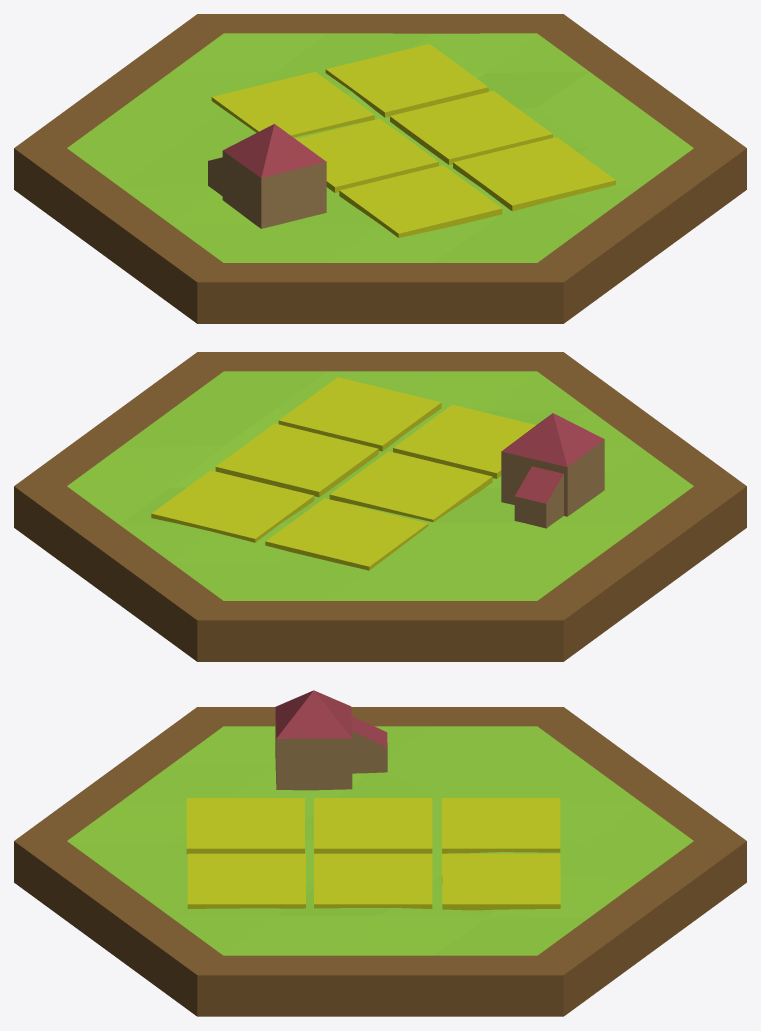
The model's file is Plains.dae.
3 renders of one model, top to bottom at view 1: azimuth 30°, elevation 25°; view 2: azimuth 150°, elevation 25°; view 3: azimuth 270°, elevation 25°, orthographic.
Parts seen in each view (by area): view 1: Tile, Building_2, Building_1; view 2: Tile, Building_2, Building_1; view 3: Tile, Building_2, Building_1.
Part boxes in pixels (<box>): Tile: <box>14,14,746,323</box>; Building_2: <box>211,44,615,237</box>; Building_1: <box>208,124,326,228</box>; Tile: <box>14,352,746,661</box>; Building_2: <box>151,377,535,570</box>; Building_1: <box>501,413,604,528</box>; Tile: <box>14,707,746,1016</box>; Building_2: <box>186,798,560,910</box>; Building_1: <box>275,690,387,790</box>.
Size of the model in its own units: 13.86 by 16 by 2.99.
